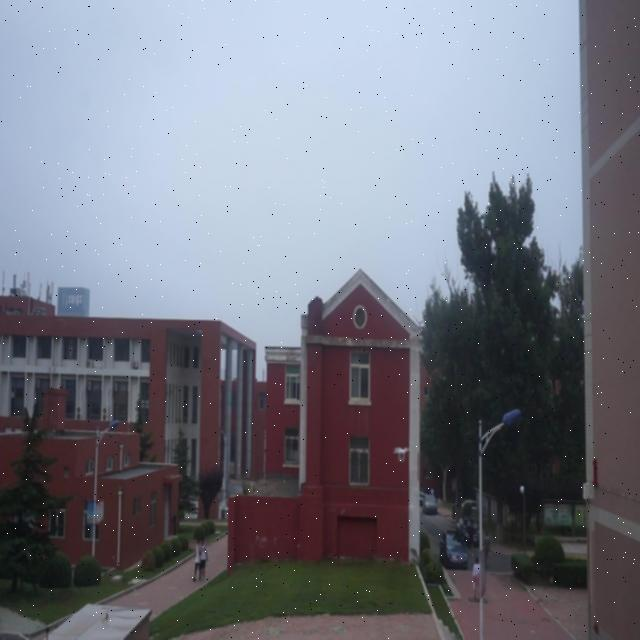UAV: (393, 446, 409, 461)
